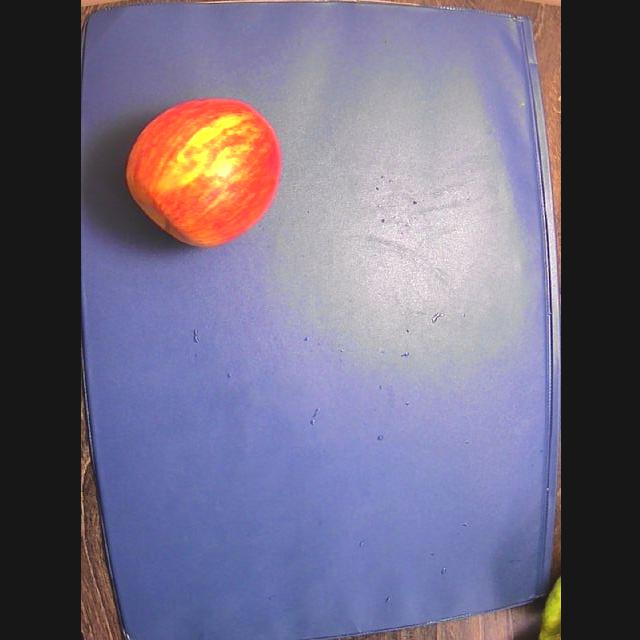manzana: (126, 99, 280, 247)
